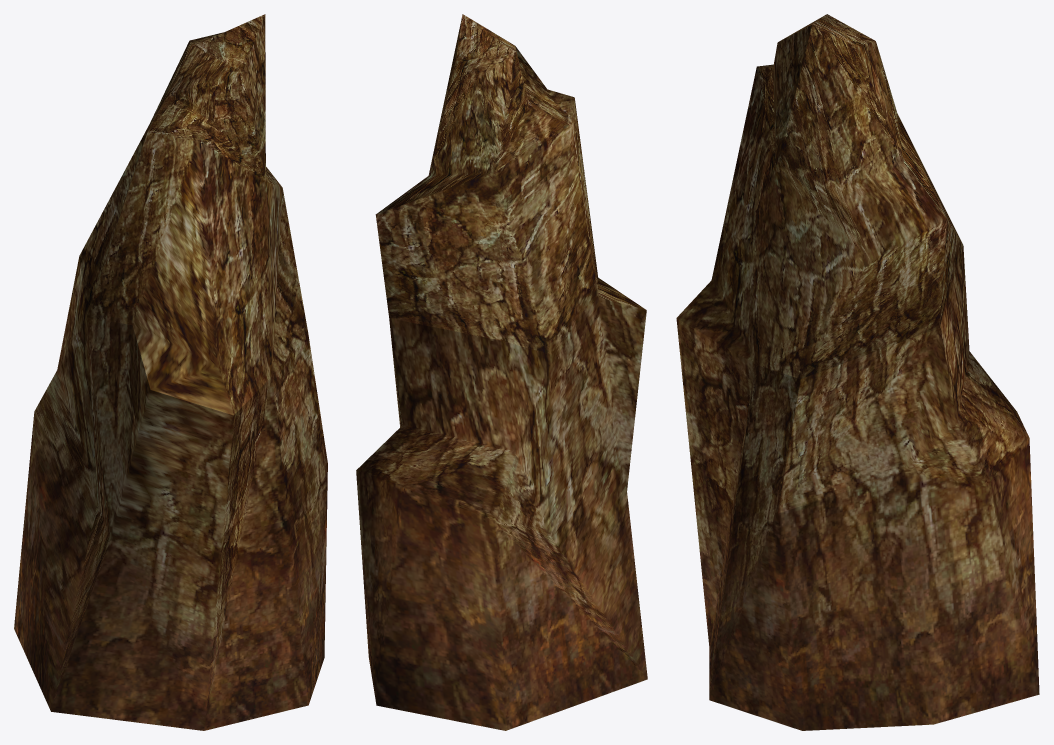
Rendered from hr_rock2.glb.
3 views of the same model, side by side, from view 1: azimuth 30°, elevation 25°; view 2: azimuth 150°, elevation 25°; view 3: azimuth 270°, elevation 25° (orthographic). The views are drawn at different scales.
Visible parts, largest first — view 1: hr_rock2-col; view 2: hr_rock2-col; view 3: hr_rock2-col.
Part boxes in pixels (box(x1,y1,x2,y2)): hr_rock2-col: box(14, 14, 327, 730); hr_rock2-col: box(356, 14, 647, 730); hr_rock2-col: box(676, 14, 1039, 730).
Size of the model in its own units: 7.36 by 17.65 by 8.56.
2 materials, 2 textured.
